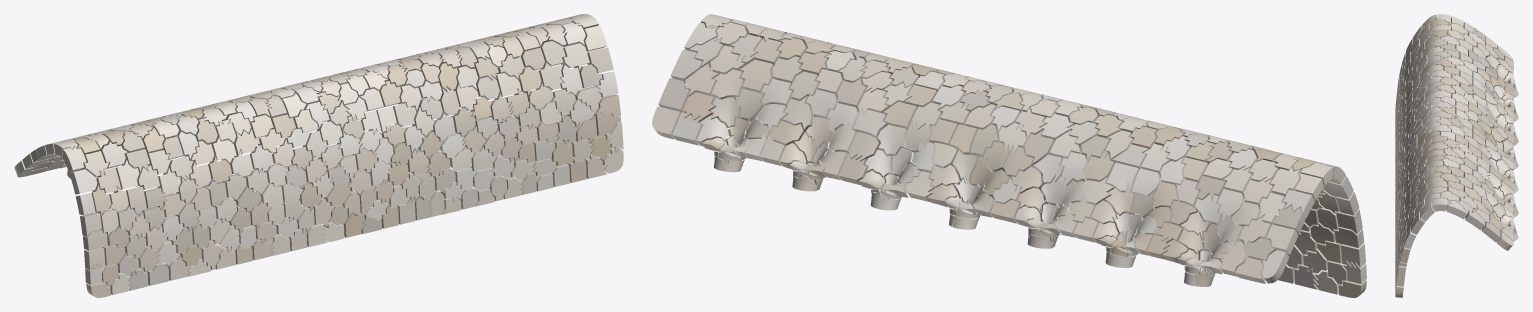
The model's file is frahan-guell-barrel-vault.glb.
3 views of the same model, side by side, from view 1: azimuth 30°, elevation 25°; view 2: azimuth 150°, elevation 25°; view 3: azimuth 270°, elevation 25° (orthographic). The views are drawn at different scales.
Visible parts, largest first — view 1: guell_block_092, guell_block_070, guell_block_117, guell_block_112, guell_block_122, guell_block_131, guell_block_021, guell_block_151, guell_block_189, guell_block_312, guell_block_121, guell_block_231 (+76 smaller); view 2: guell_block_158, guell_block_284, guell_block_409, guell_block_159, guell_block_017, guell_block_135, guell_block_014, guell_block_018, guell_block_090, guell_block_045, guell_block_026, guell_block_111 (+94 smaller); view 3: guell_block_422, guell_block_193, guell_block_409, guell_block_062, guell_block_172, guell_block_122, guell_block_021, guell_block_093, guell_block_415, guell_block_160, guell_block_108, guell_block_158 (+114 smaller).
Part boxes in pixels (<box>): guell_block_092: <box>561,43,589,71</box>; guell_block_070: <box>70,169,97,194</box>; guell_block_117: <box>539,63,563,90</box>; guell_block_112: <box>559,64,582,94</box>; guell_block_122: <box>587,47,613,73</box>; guell_block_131: <box>101,141,127,169</box>; guell_block_021: <box>583,25,607,51</box>; guell_block_151: <box>540,41,565,66</box>; guell_block_189: <box>115,159,139,189</box>; guell_block_312: <box>450,108,475,135</box>; guell_block_121: <box>518,67,541,95</box>; guell_block_231: <box>62,147,86,172</box>; guell_block_158: <box>739,59,773,93</box>; guell_block_284: <box>711,69,744,99</box>; guell_block_409: <box>658,78,689,112</box>; guell_block_159: <box>877,124,908,156</box>; guell_block_017: <box>782,96,813,131</box>; guell_block_135: <box>685,63,718,96</box>; guell_block_014: <box>853,109,887,140</box>; guell_block_018: <box>1106,162,1139,193</box>; guell_block_090: <box>682,92,715,122</box>; guell_block_045: <box>710,97,741,128</box>; guell_block_026: <box>672,112,702,145</box>; guell_block_111: <box>761,79,792,107</box>; guell_block_422: <box>1446,200,1467,219</box>; guell_block_193: <box>1465,210,1484,230</box>; guell_block_409: <box>1481,222,1500,242</box>; guell_block_062: <box>1432,197,1450,211</box>; guell_block_172: <box>1496,231,1513,250</box>; guell_block_122: <box>1410,212,1424,234</box>; guell_block_021: <box>1420,202,1434,221</box>; guell_block_093: <box>1396,266,1406,286</box>; guell_block_415: <box>1404,229,1416,248</box>; guell_block_160: <box>1400,243,1410,263</box>; guell_block_108: <box>1487,172,1501,188</box>; guell_block_158: <box>1463,186,1480,202</box>.
Size of the model in its own units: 15.97 by 3.77 by 4.38.
